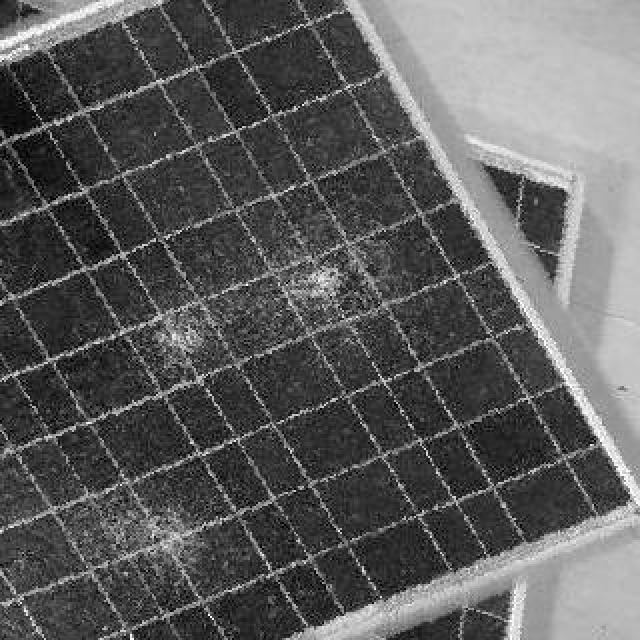Structural Damage: (278, 217, 392, 317), (80, 498, 190, 590), (143, 295, 225, 373)
